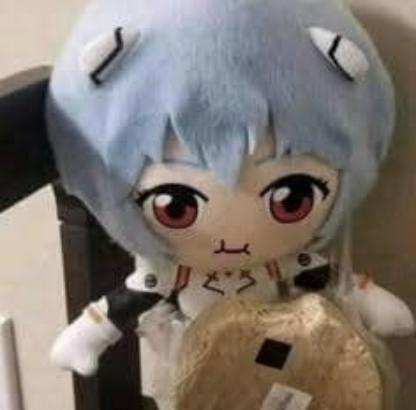rei-plush: (43, 0, 401, 408)
